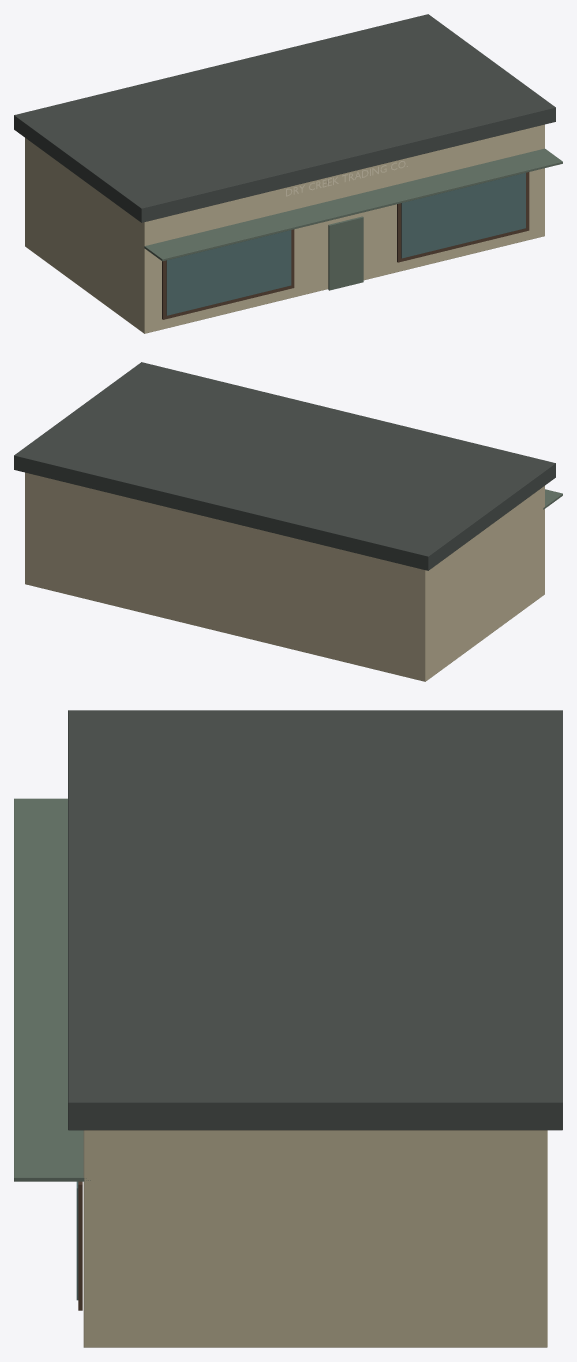
Rendered from env_storefront_old.gltf.
The picture shows the model from 3 angles, top to bottom: view 1: azimuth 30°, elevation 25°; view 2: azimuth 150°, elevation 25°; view 3: azimuth 270°, elevation 25°; orthographic projection. The views are drawn at different scales.
Visible parts, largest first — view 1: env_storefront_old__roof, env_storefront_old__paint_cream, env_storefront_old__glass, env_storefront_old__paint_green, env_storefront_old__wood_edge, env_storefront_old__paper; view 2: env_storefront_old__roof, env_storefront_old__paint_cream; view 3: env_storefront_old__roof, env_storefront_old__paint_cream, env_storefront_old__paint_green.
Boxes of the visible parts, box(x1,y1,x2,y2) form: env_storefront_old__roof: box(14, 14, 555, 222); env_storefront_old__paint_cream: box(25, 124, 544, 333); env_storefront_old__glass: box(166, 173, 525, 315); env_storefront_old__paint_green: box(144, 148, 562, 290); env_storefront_old__wood_edge: box(162, 172, 529, 319); env_storefront_old__paper: box(286, 161, 407, 196); env_storefront_old__roof: box(14, 362, 555, 570); env_storefront_old__paint_cream: box(25, 472, 544, 681); env_storefront_old__roof: box(68, 710, 562, 1130); env_storefront_old__paint_cream: box(83, 1130, 547, 1347); env_storefront_old__paint_green: box(14, 798, 90, 1181).
Bounding box in the file's own units: 60 × 18 × 35.5.
